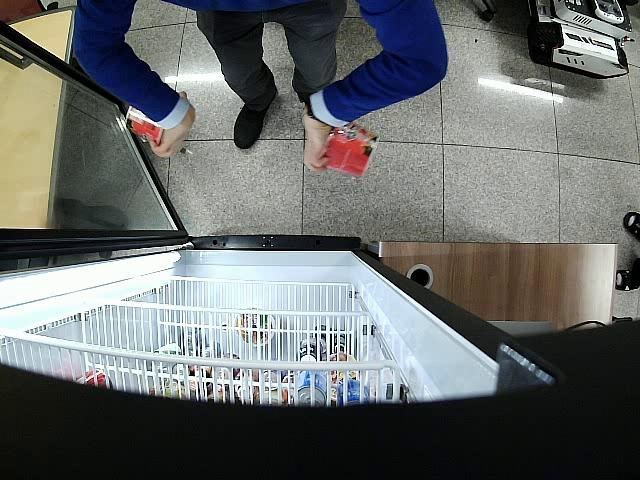00_hand: (149, 91, 195, 157), (303, 115, 330, 173)
01_shinRamen_L: (318, 120, 379, 176), (125, 97, 164, 149)
